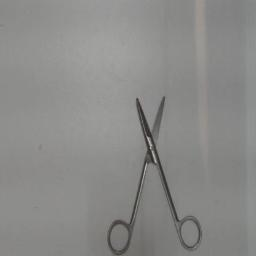Curved Mayo Scissors: (105, 84, 207, 256)
